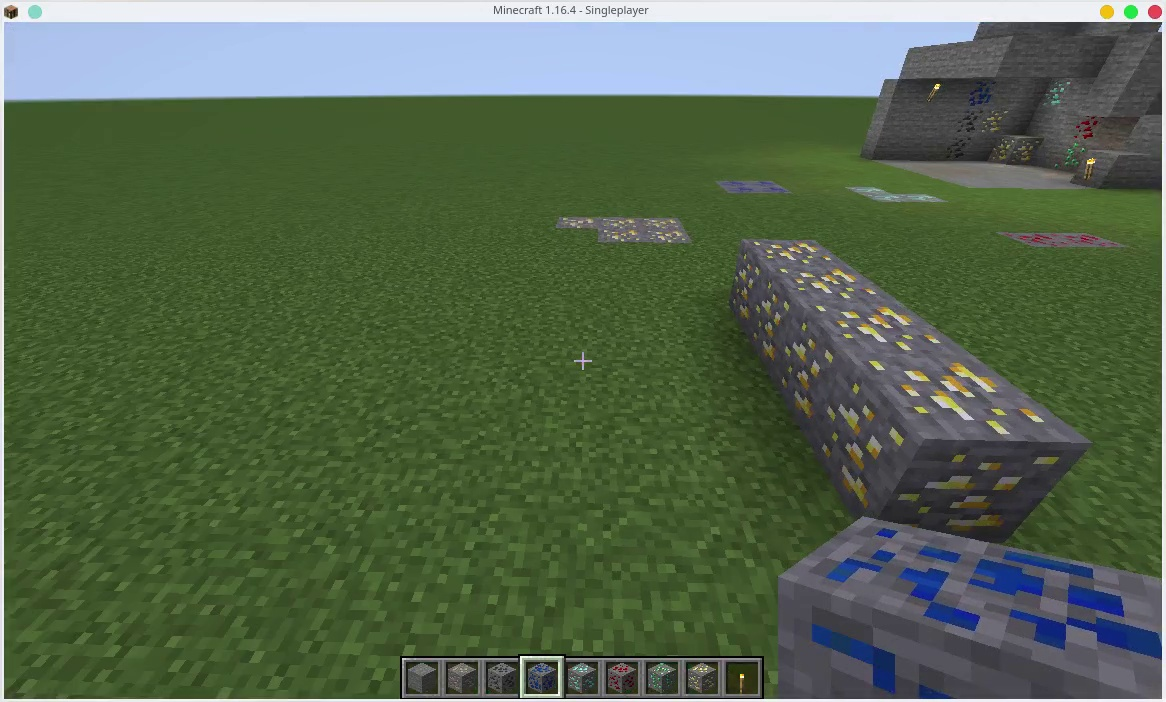gold: (863, 375, 1056, 538), (841, 296, 924, 361), (775, 308, 815, 438), (749, 282, 784, 369), (716, 249, 755, 319), (785, 267, 863, 295), (766, 239, 843, 261), (992, 132, 1039, 165), (597, 228, 645, 250), (687, 663, 719, 692), (648, 228, 687, 246), (981, 109, 1006, 135), (561, 215, 590, 229), (606, 216, 635, 229), (652, 217, 684, 225)
